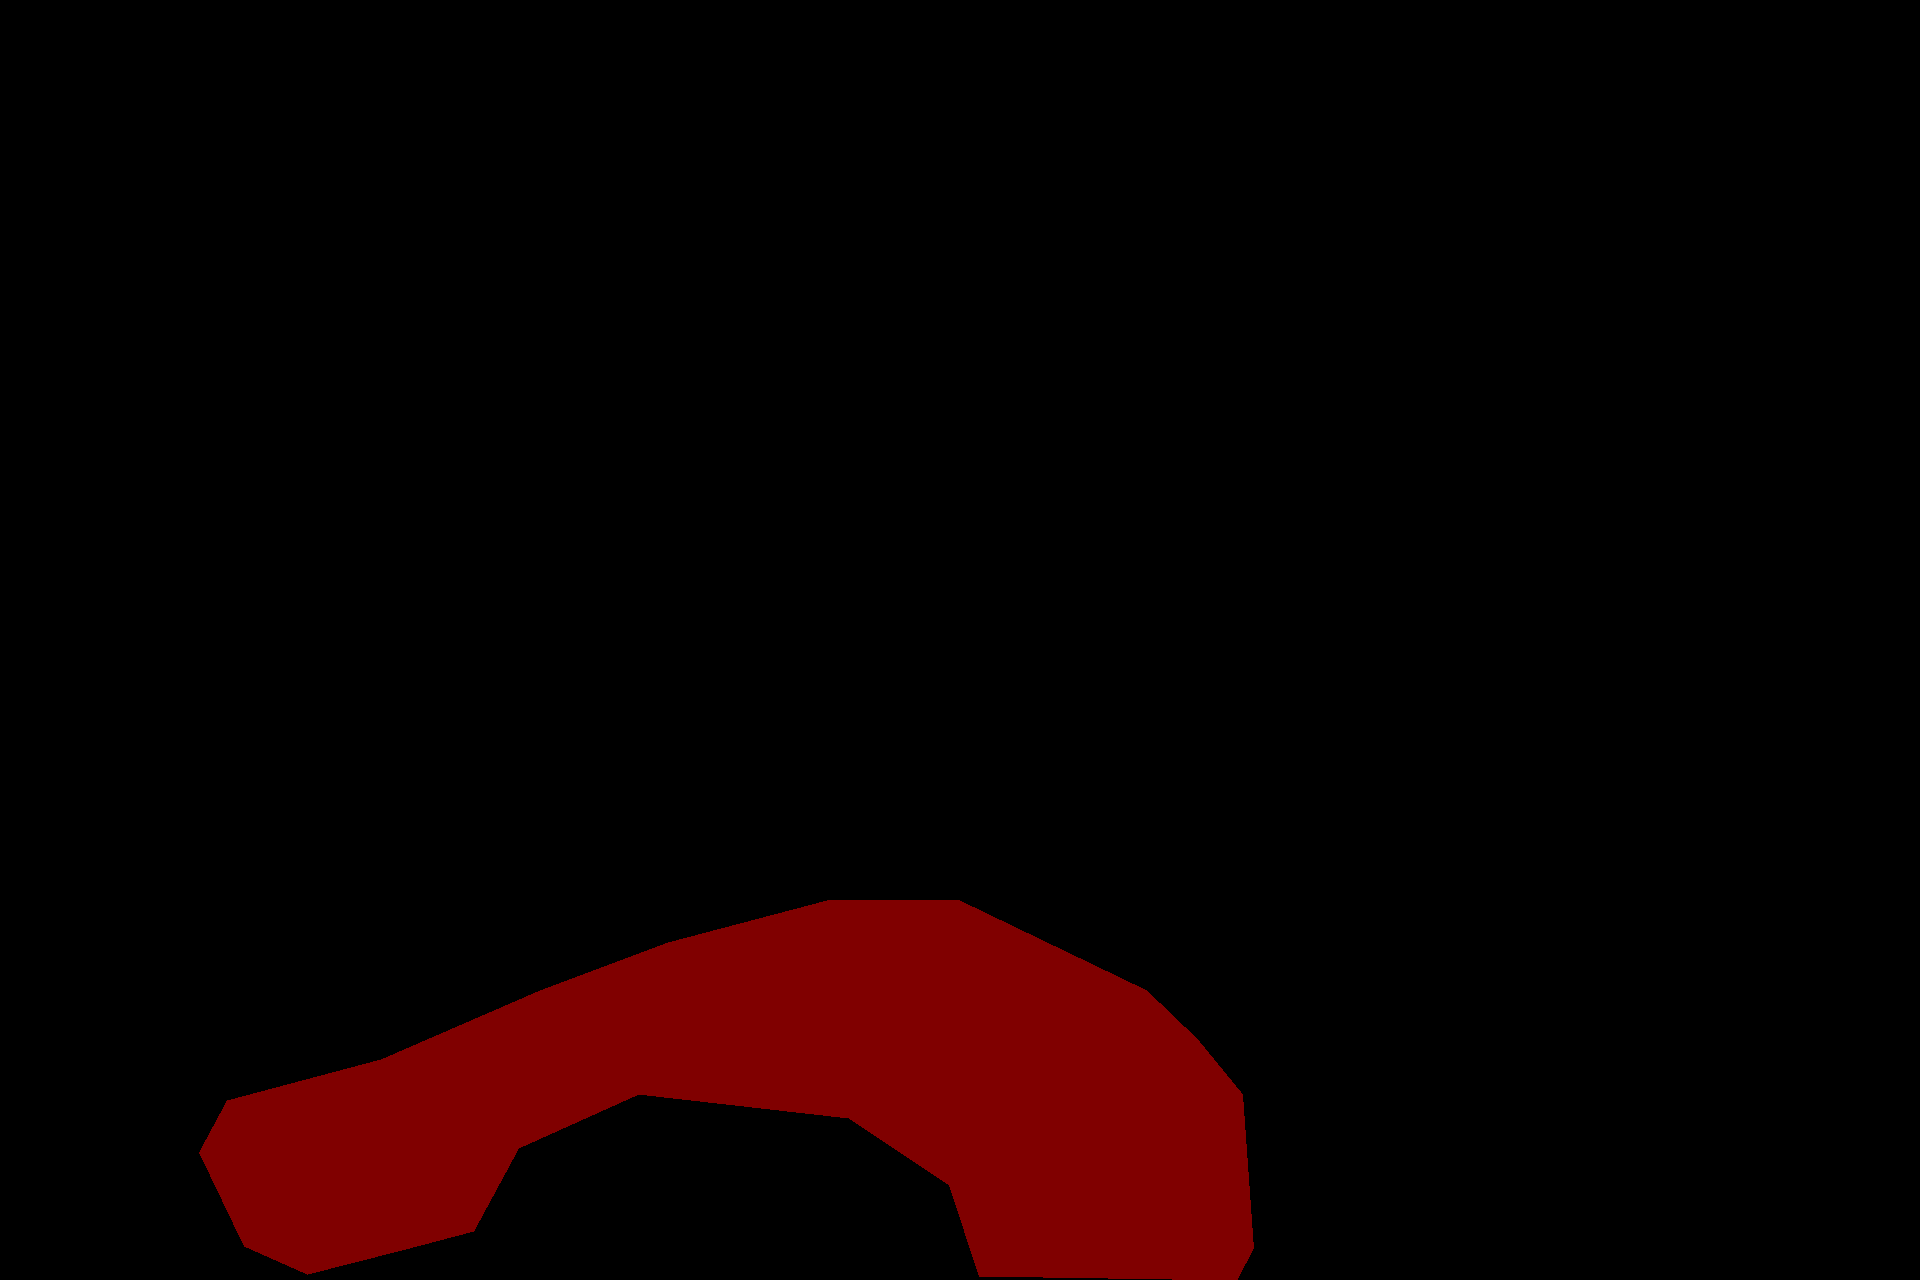fire: (199, 900, 1253, 1280)
